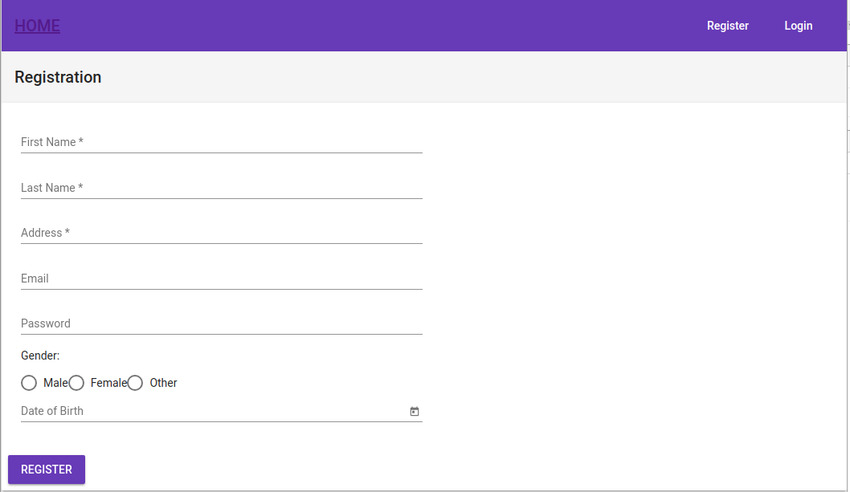_form_: (15, 41, 432, 457), (4, 346, 180, 490)
button: (6, 453, 88, 486)
field_line: (17, 128, 426, 157), (19, 173, 428, 202), (18, 219, 427, 248), (19, 265, 428, 294), (19, 310, 428, 339), (18, 398, 427, 427)
radio: (66, 373, 88, 393), (20, 373, 39, 392), (128, 372, 145, 393)
radio_with_label: (64, 370, 128, 395), (125, 369, 176, 395), (14, 370, 67, 394)
